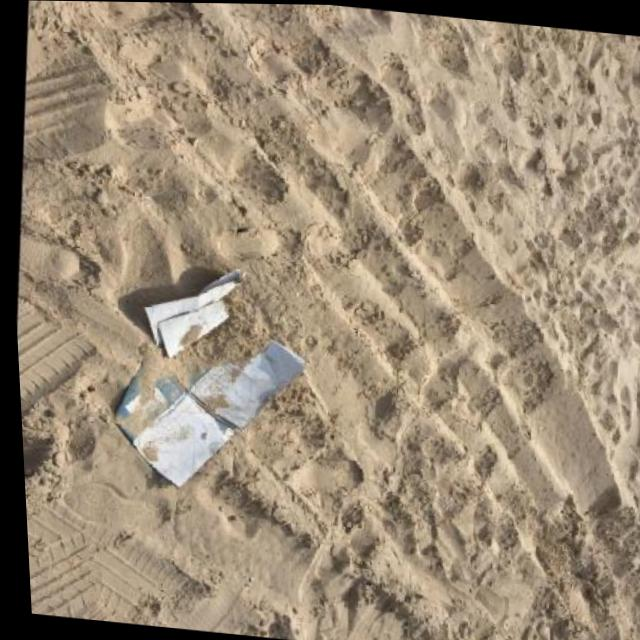cardboard: (97, 254, 323, 501)
